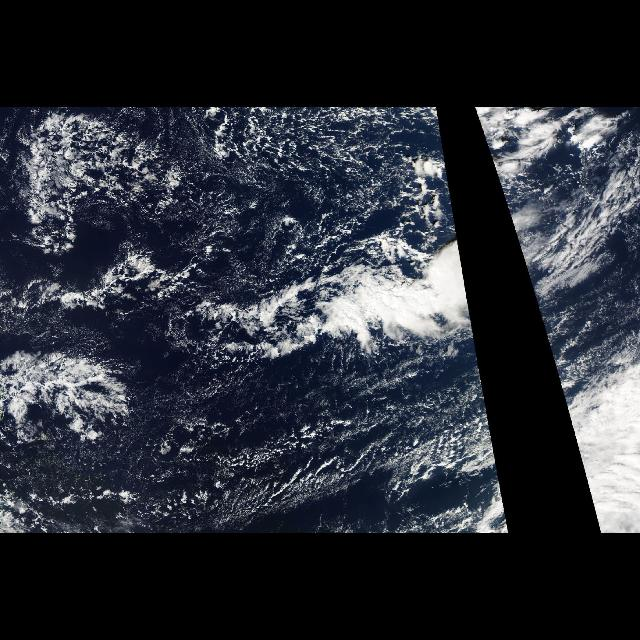Fish: (1, 112, 483, 456), (502, 194, 550, 352)
Gravel: (137, 109, 423, 263)
